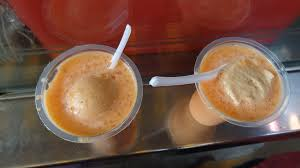jigirthanda: (199, 50, 283, 121), (46, 59, 132, 128)
